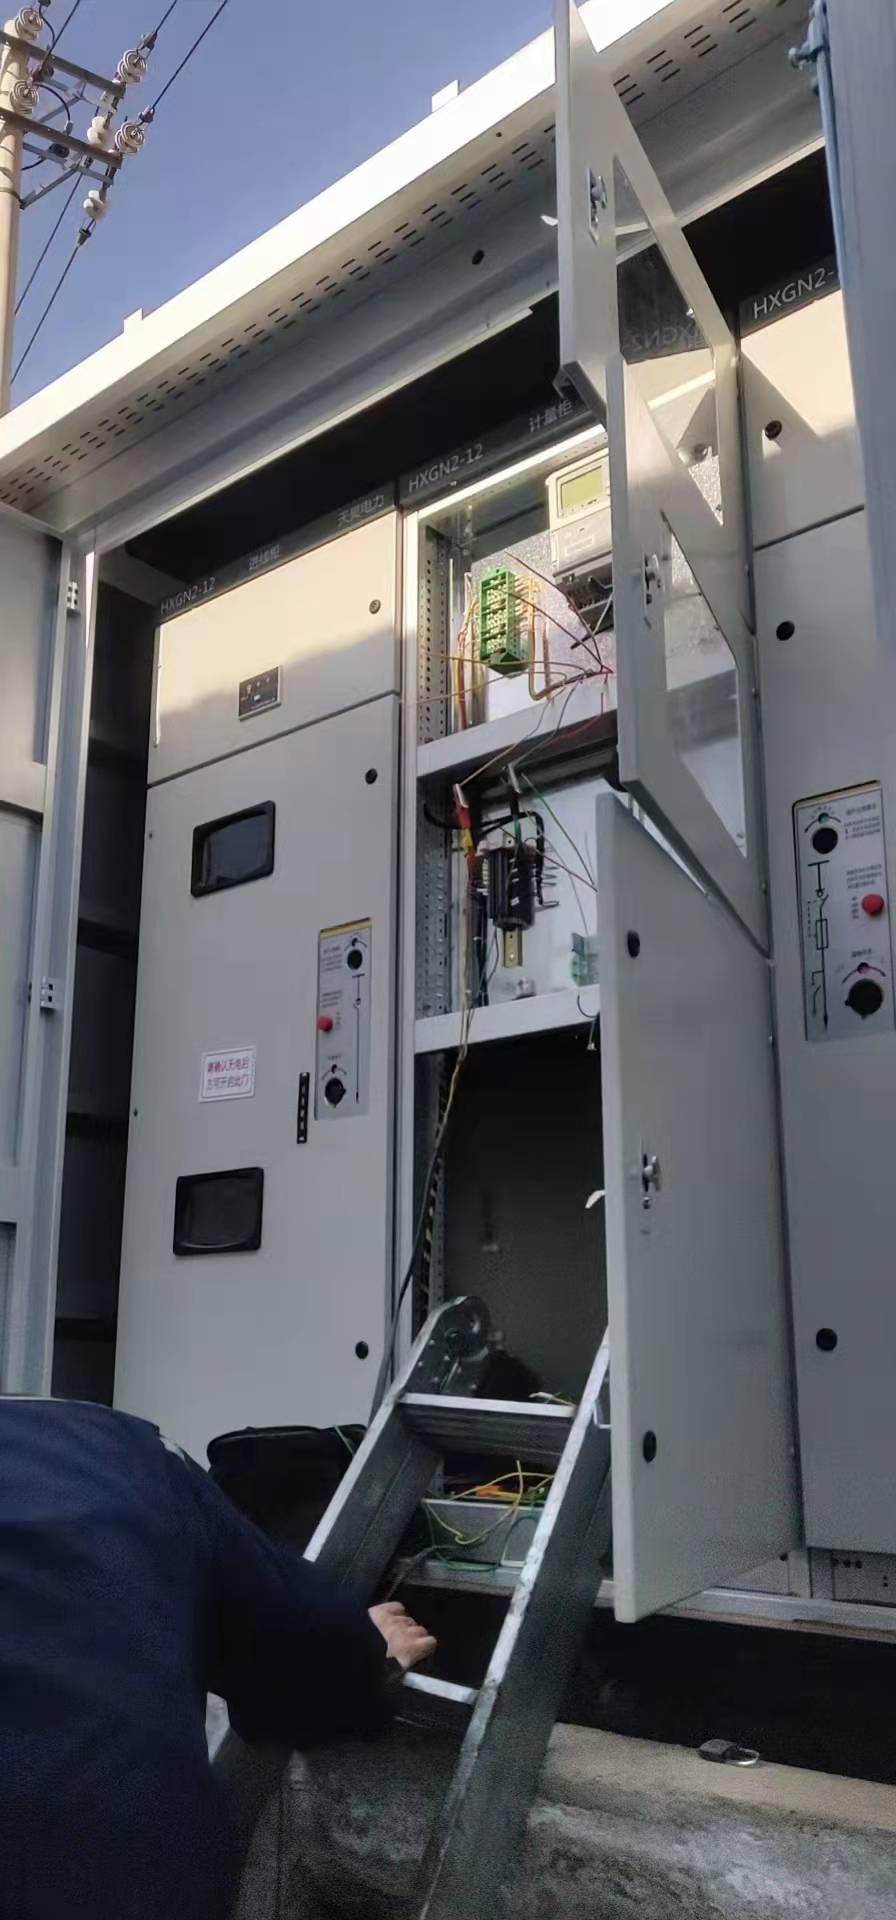digital: (547, 447, 613, 583)
